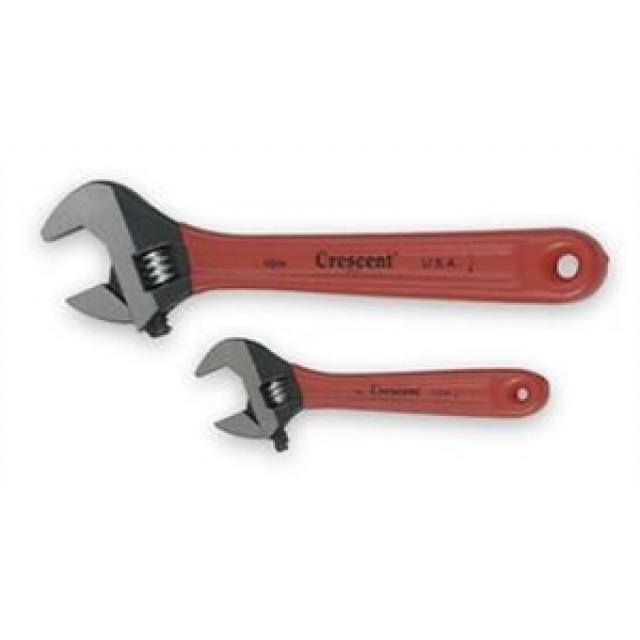wrench: (35, 170, 620, 348), (190, 332, 556, 455)
